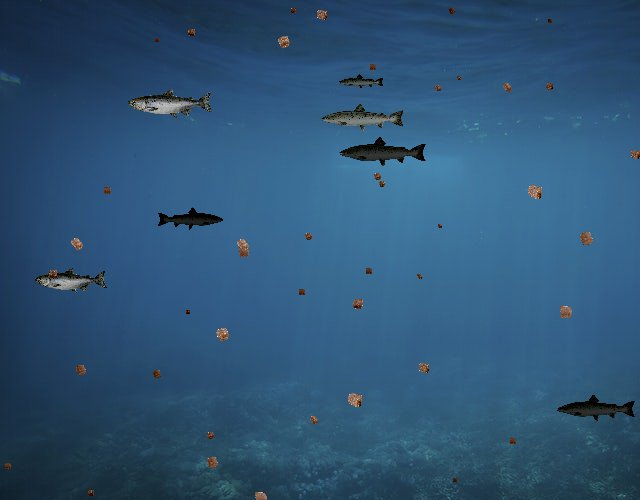Fish: (338, 136, 428, 168), (320, 102, 406, 133), (128, 88, 214, 119), (557, 393, 638, 423), (36, 268, 109, 294), (157, 207, 225, 231), (339, 74, 386, 91)
Pellet: (310, 3, 333, 26), (247, 485, 274, 500), (497, 77, 517, 97), (183, 25, 200, 42), (362, 264, 376, 278), (454, 72, 464, 82)
